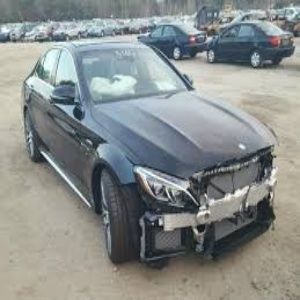bumper: (181, 167, 284, 249)
